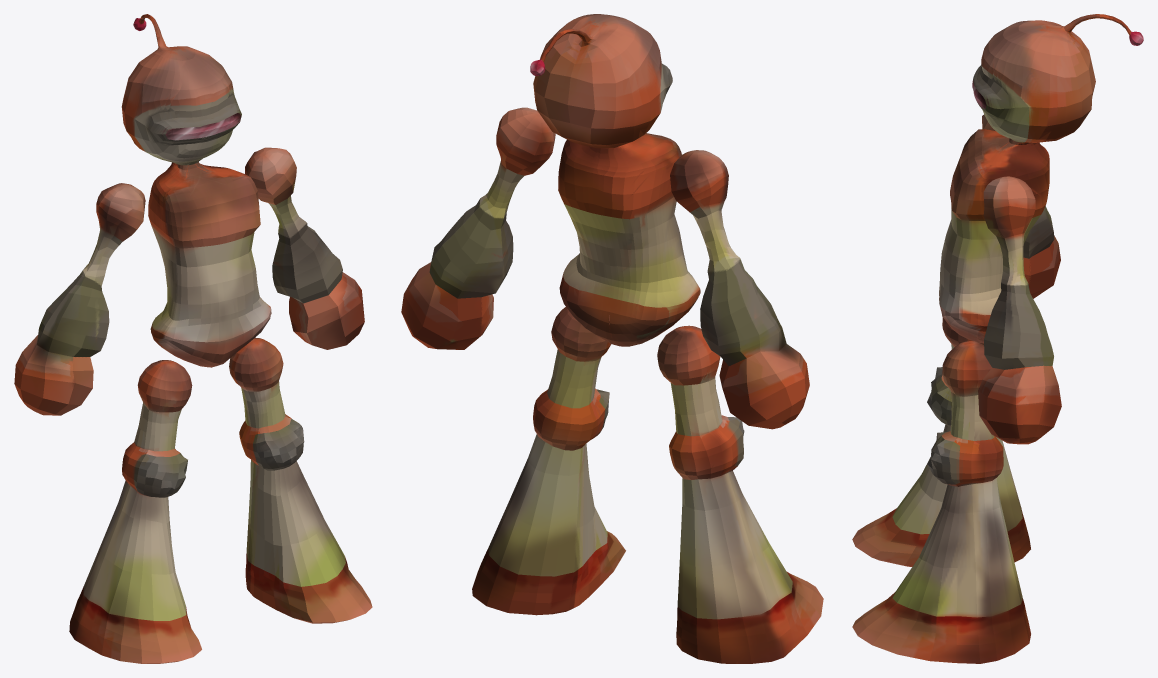
Rendered from enemy1.fbx.
3 views of the same model, side by side, from view 1: azimuth 30°, elevation 25°; view 2: azimuth 150°, elevation 25°; view 3: azimuth 270°, elevation 25° (orthographic). The views are drawn at different scales.
Parts seen in each view (by area): view 1: lowpoly; view 2: lowpoly; view 3: lowpoly.
Boxes of the visible parts, <box> form: lowpoly: <box>14,14,372,663</box>; lowpoly: <box>401,14,823,663</box>; lowpoly: <box>852,14,1143,663</box>.
Size of the model in its own units: 482 by 742 by 335.
